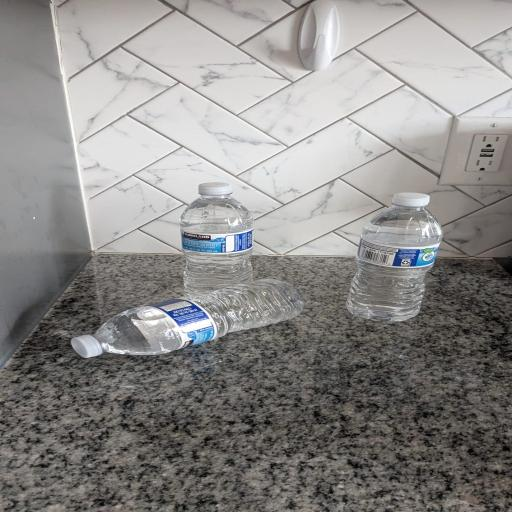waterbottle: (71, 280, 303, 357), (347, 193, 442, 321), (181, 183, 253, 296)
